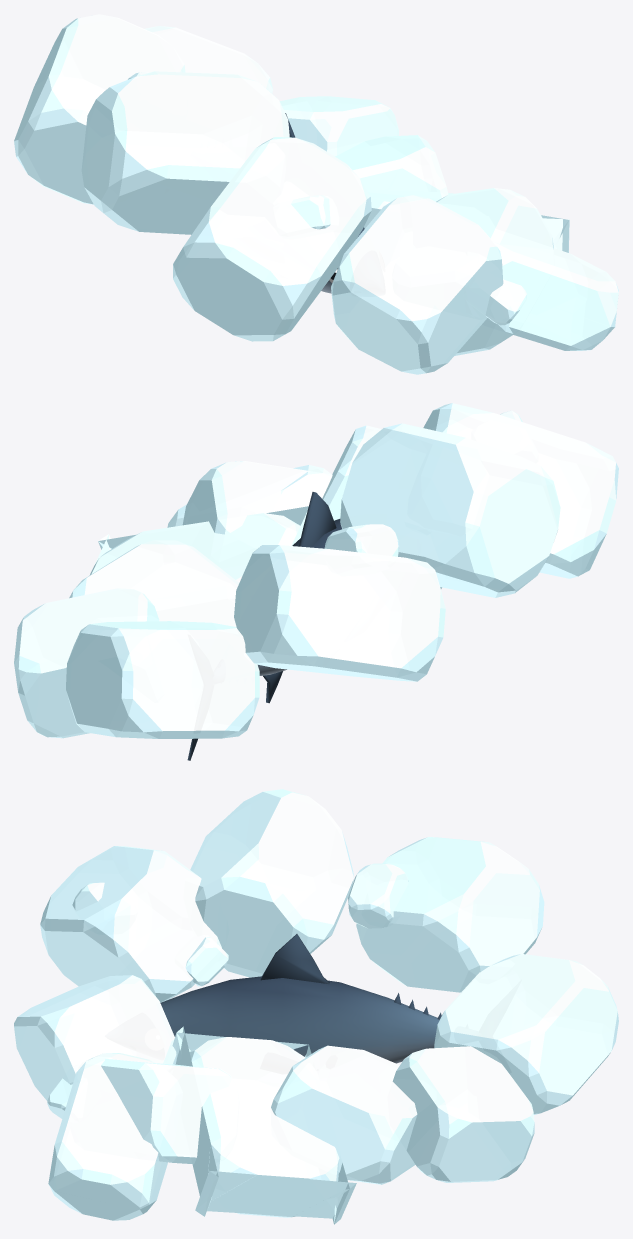
File: IceCube2.glb
The picture shows the model from 3 angles, top to bottom: view 1: azimuth 30°, elevation 25°; view 2: azimuth 150°, elevation 25°; view 3: azimuth 270°, elevation 25°; orthographic projection. The views are drawn at different scales.
Parts seen in each view (by area): view 1: Ice_Chunk_07, Ice_Chunk_03, Ice_Chunk_04, Ice_Chunk_01, Ice_Chunk_09, Ice_Chunk_08, Ice_Chunk_06, Ice_Chunk_05, Ice_Chunk_02, Ice_Chip_04, Ice_Chunk_10, Ice_Chip_02; view 2: Ice_Chunk_03, Ice_Chunk_01, Ice_Chunk_02, Ice_Chunk_07, Ice_Chunk_05, Ice_Chunk_06, Ice_Chunk_10, Ice_Chunk_08, Ice_Chip_01, Ice_Chunk_04, Ice_Chunk_09, Tuna_DorsalFin; view 3: Ice_Chunk_03, Ice_Chunk_10, Ice_Chunk_01, Ice_Chunk_02, Ice_Chunk_07, Tuna_Body, Ice_Chunk_05, Ice_Chunk_06, Ice_Chunk_09, Ice_Chunk_04, Ice_Chunk_08, Ice_Chip_01 (+4 smaller).
Boxes of the visible parts, x1,y1,x2,y2 form: Ice_Chunk_07: (173, 137, 371, 341); Ice_Chunk_03: (81, 71, 289, 234); Ice_Chunk_04: (331, 195, 503, 374); Ice_Chunk_01: (14, 14, 185, 204); Ice_Chunk_09: (493, 241, 618, 350); Ice_Chunk_08: (436, 188, 553, 355); Ice_Chunk_06: (335, 135, 448, 198); Ice_Chunk_05: (280, 96, 398, 156); Ice_Chunk_02: (144, 26, 272, 93); Ice_Chip_04: (485, 279, 526, 325); Ice_Chunk_10: (364, 192, 569, 252); Ice_Chip_02: (291, 195, 330, 229); Ice_Chunk_03: (340, 423, 560, 597); Ice_Chunk_01: (234, 545, 445, 681); Ice_Chunk_02: (66, 621, 259, 738); Ice_Chunk_07: (423, 403, 618, 578); Ice_Chunk_05: (14, 588, 159, 738); Ice_Chunk_06: (69, 540, 239, 626); Ice_Chunk_10: (90, 506, 308, 582); Ice_Chunk_08: (182, 461, 332, 534); Ice_Chip_01: (324, 524, 399, 556); Ice_Chunk_04: (322, 425, 441, 588); Ice_Chunk_09: (167, 465, 332, 527); Tuna_DorsalFin: (299, 492, 336, 547); Ice_Chunk_03: (190, 789, 353, 977); Ice_Chunk_10: (172, 1026, 356, 1224); Ice_Chunk_01: (356, 837, 544, 992); Ice_Chunk_02: (434, 954, 618, 1114); Ice_Chunk_07: (40, 846, 221, 1002); Tuna_Body: (160, 976, 439, 1063); Ice_Chunk_05: (392, 1046, 534, 1182); Ice_Chunk_06: (271, 1045, 417, 1184); Ice_Chunk_09: (48, 1053, 167, 1220); Ice_Chunk_04: (14, 975, 176, 1100); Ice_Chunk_08: (91, 1058, 231, 1164); Ice_Chip_01: (348, 863, 408, 928).
Size of what is drawn, in the model's own units: 1.03 by 0.6219 by 1.26.
